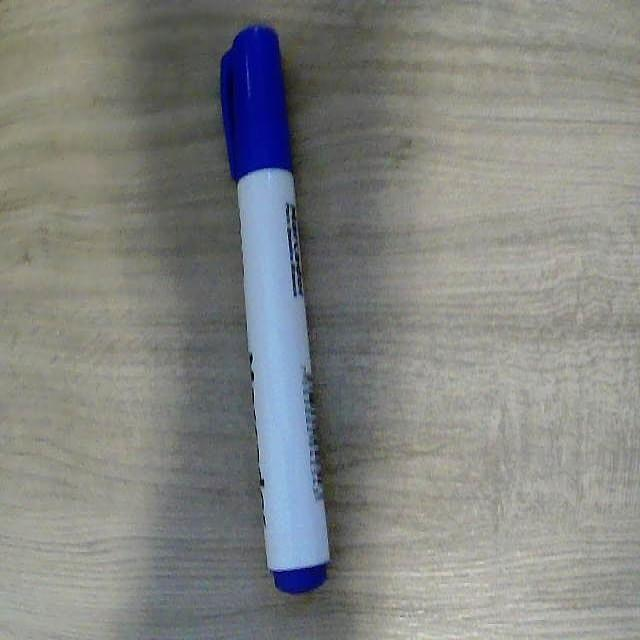caneta: (184, 8, 361, 605)
